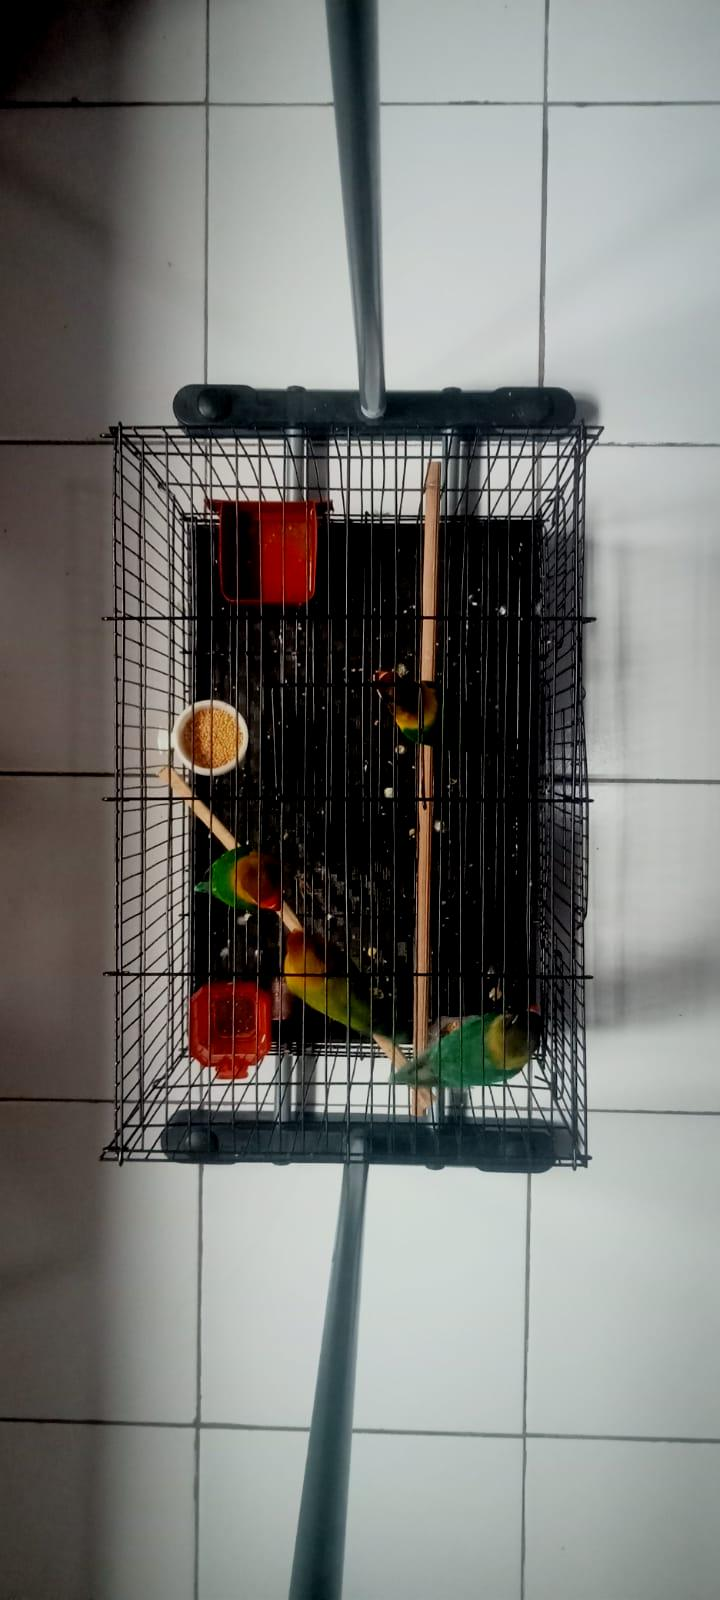LoveBird: (282, 933, 406, 1045), (389, 1003, 543, 1087), (375, 671, 506, 754), (194, 844, 286, 913)
